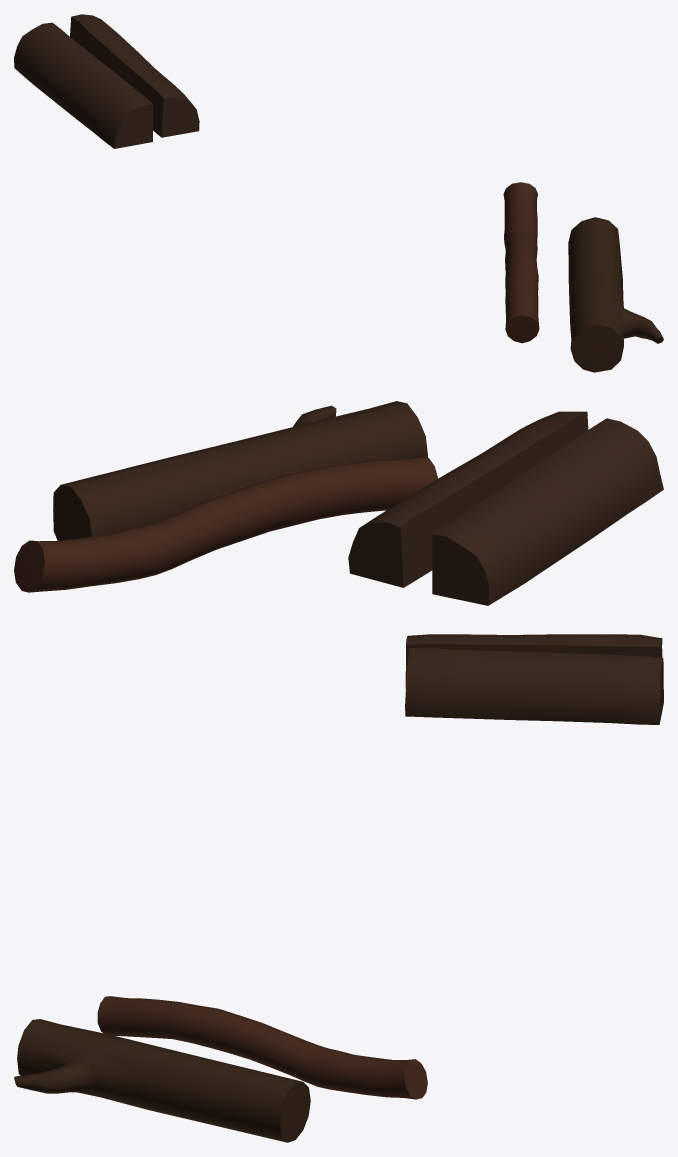
Rendered from Legna.FBX.
3 renders of one model, top to bottom at view 1: azimuth 30°, elevation 25°; view 2: azimuth 150°, elevation 25°; view 3: azimuth 270°, elevation 25°, orthographic. The views are drawn at different scales.
Parts seen in each view (by area): view 1: log1_LP001, log2_LP, log1_LP, log3_LP; view 2: log1_LP001, log3_LP, log2_LP, log1_LP; view 3: log2_LP, log1_LP, log3_LP, log1_LP001.
Boxes of the visible parts, <box> form: log1_LP001: <box>14,22,153,148</box>; log2_LP: <box>568,217,663,372</box>; log1_LP: <box>70,14,199,137</box>; log3_LP: <box>503,182,539,343</box>; log1_LP001: <box>432,418,663,605</box>; log3_LP: <box>14,456,437,592</box>; log2_LP: <box>53,401,427,540</box>; log1_LP: <box>348,411,588,587</box>; log2_LP: <box>14,1019,310,1142</box>; log1_LP: <box>405,648,663,724</box>; log3_LP: <box>97,996,427,1099</box>; log1_LP001: <box>405,634,662,689</box>.
Size of the model in its own units: 2.41 by 1.17 by 2.53.
